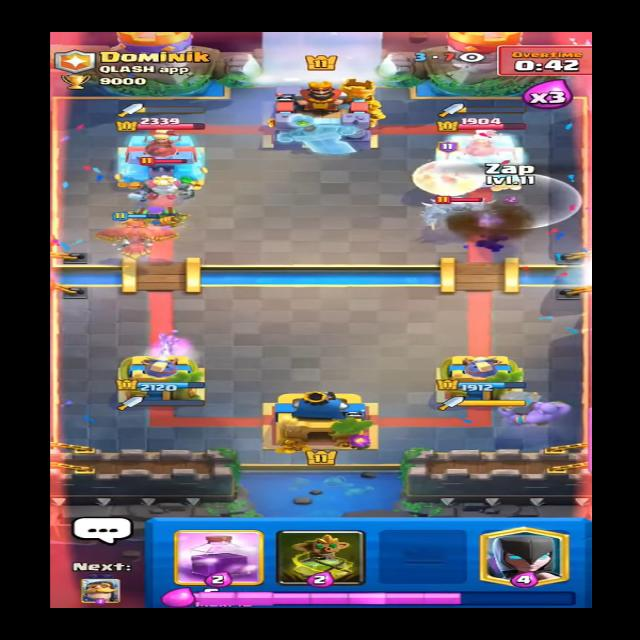evo-wizard: (410, 145, 498, 199)
pekka: (423, 191, 502, 233)
royal-ghost: (132, 152, 204, 204)
